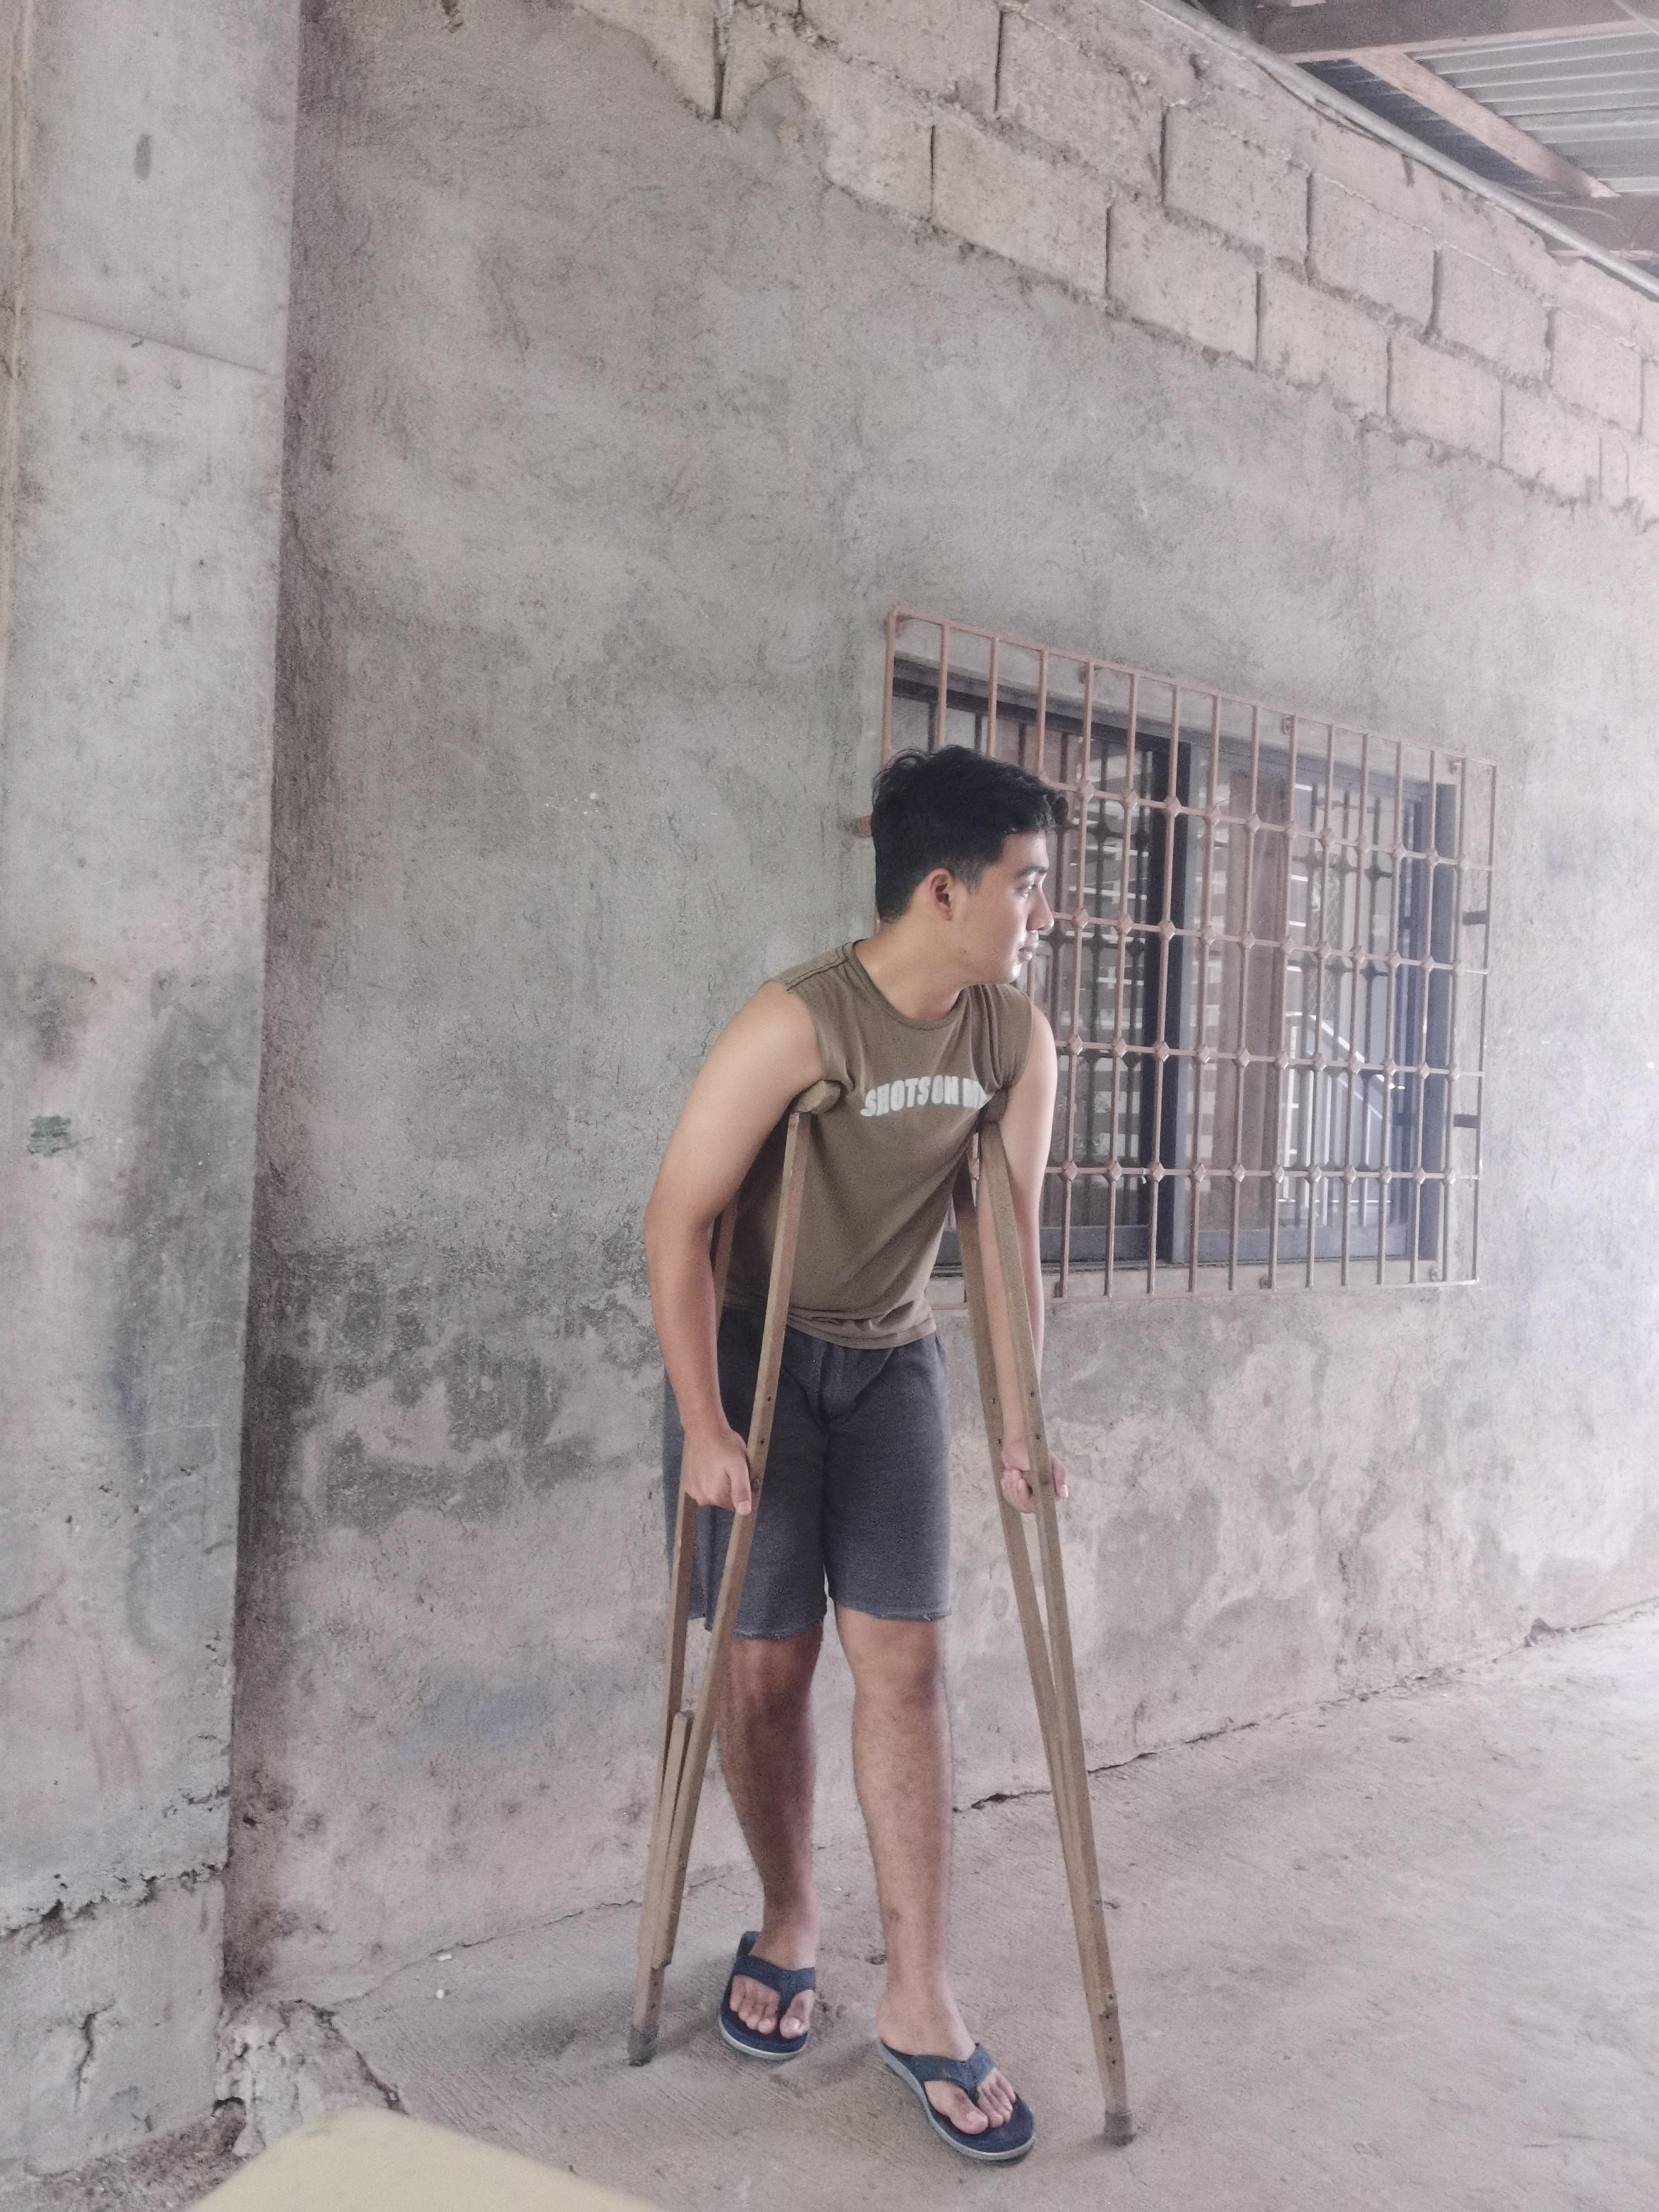crutches: (606, 726, 1171, 2196)
